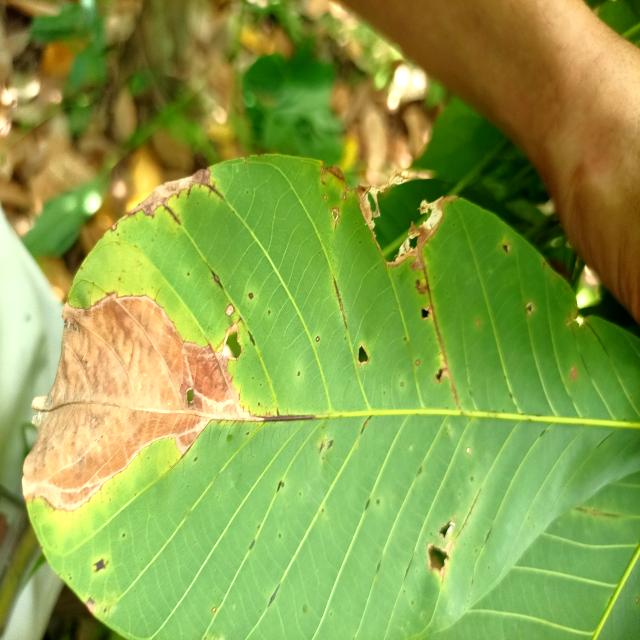Colletotrichum: (465, 446, 471, 454), (212, 606, 217, 613), (315, 336, 320, 342), (248, 293, 253, 299), (416, 359, 420, 366), (400, 381, 404, 387), (298, 372, 300, 376)
Corynespora: (419, 264, 459, 406), (261, 408, 315, 426), (333, 277, 348, 329), (162, 203, 182, 226), (202, 182, 224, 198), (210, 269, 224, 291)
Leaf-Blight: (22, 288, 264, 512), (458, 490, 482, 536)
